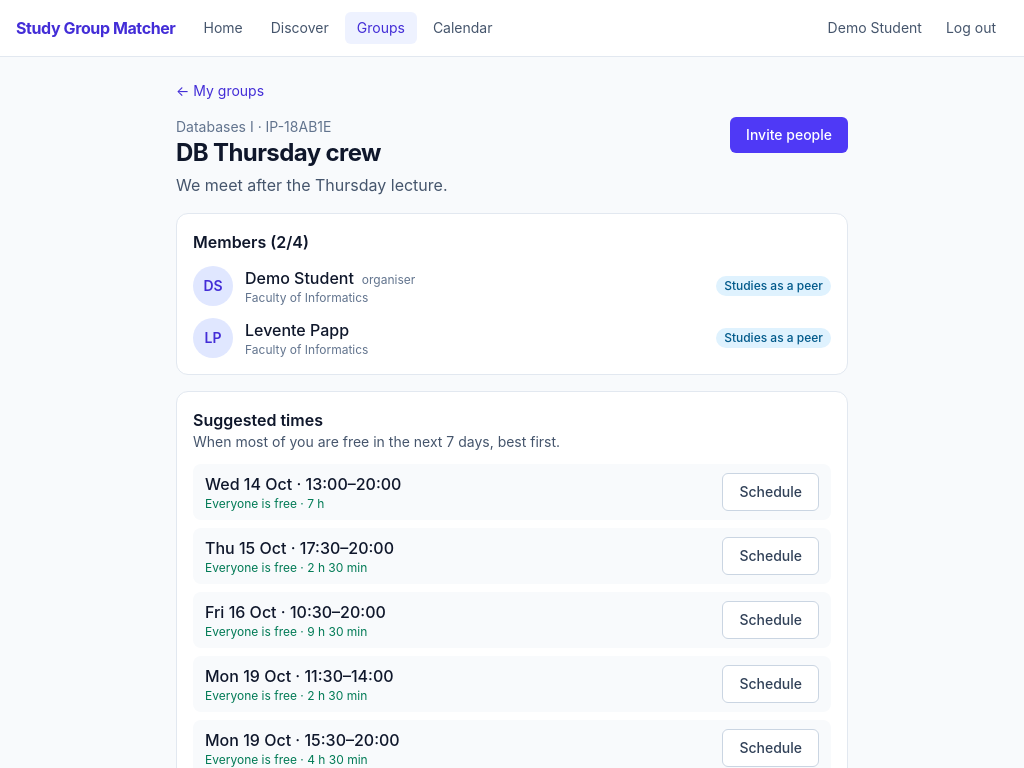
Test: Book a room while scheduling › can meet at a bookable place without booking
The image size is (1024, 768).
Click the button "Schedule " in the row of "Wed 14 Oct · 13:00–20:00".
click(771, 492)  # box x1=722 y1=473 x2=819 y2=511
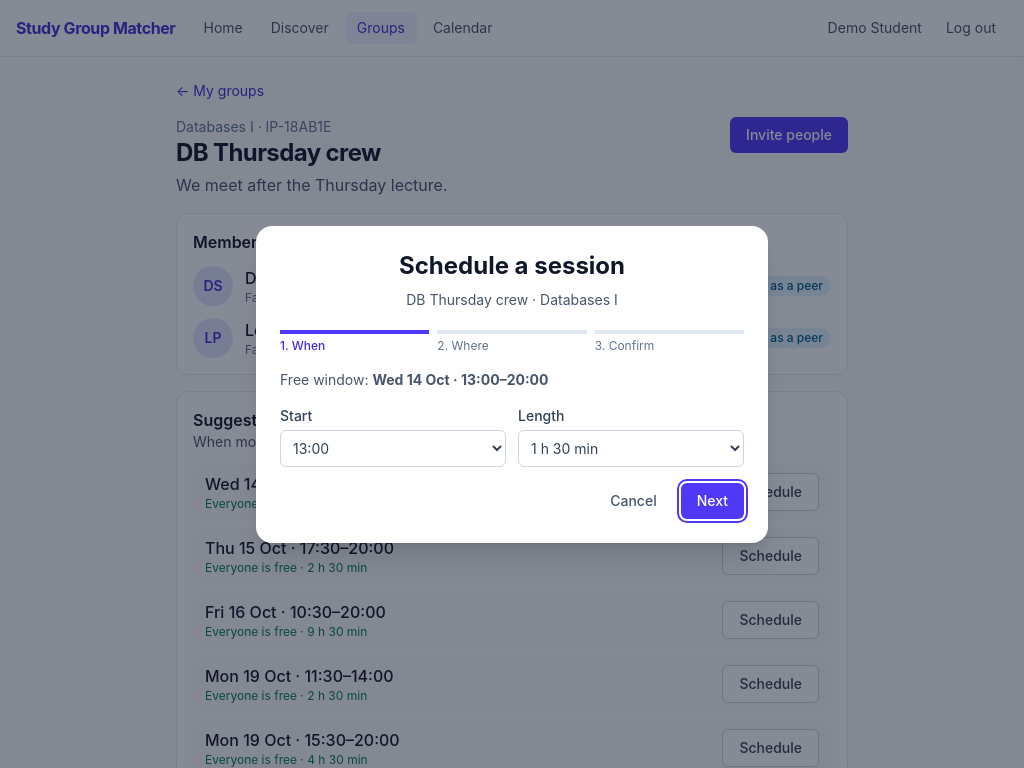
Click the button "Next".
click(712, 500)  # box x1=681 y1=482 x2=744 y2=518
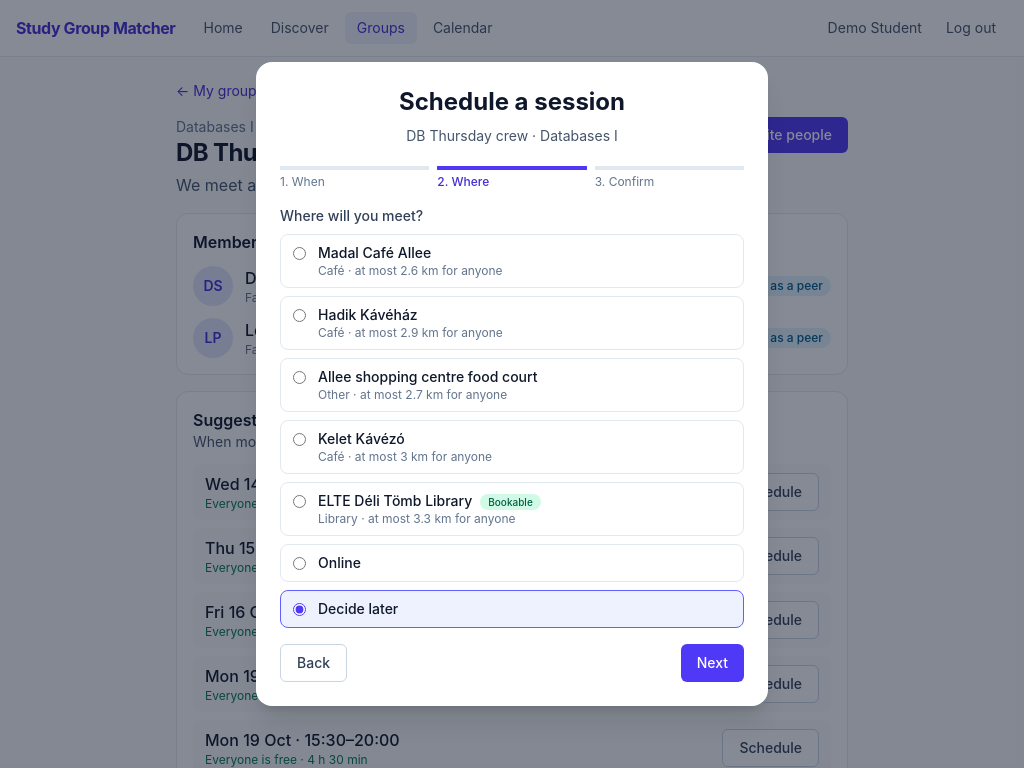
Click the 5th radio button.
click(300, 502)  # box x1=293 y1=495 x2=306 y2=508
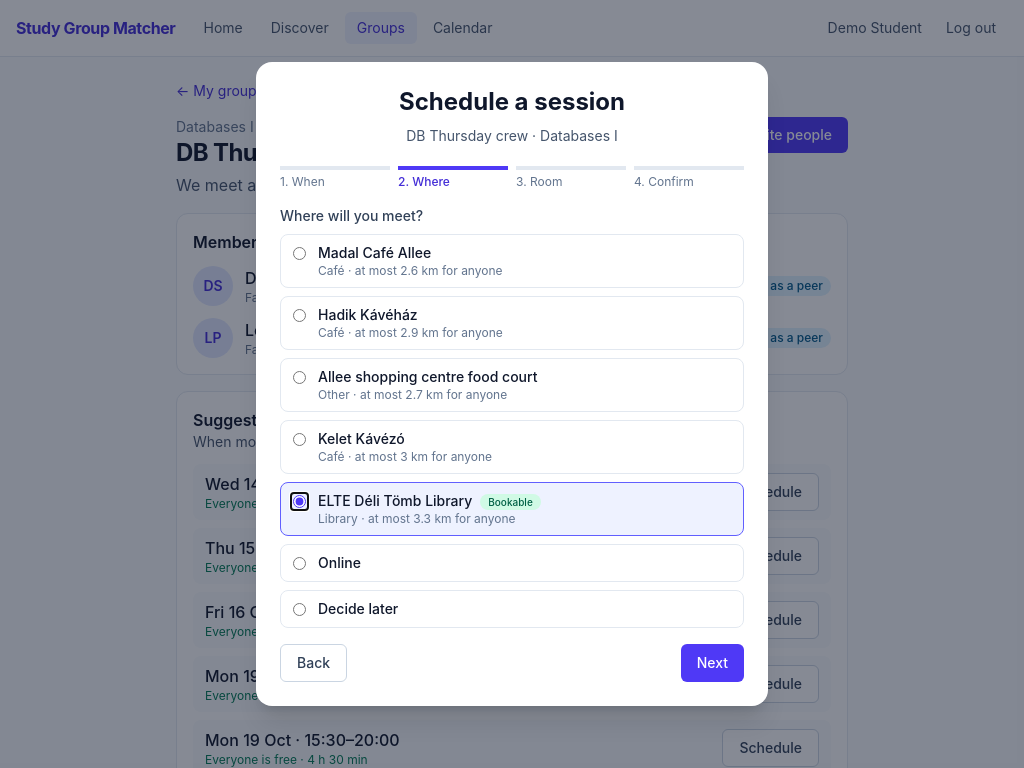
Click the button "Next".
click(712, 663)  # box x1=681 y1=644 x2=744 y2=682
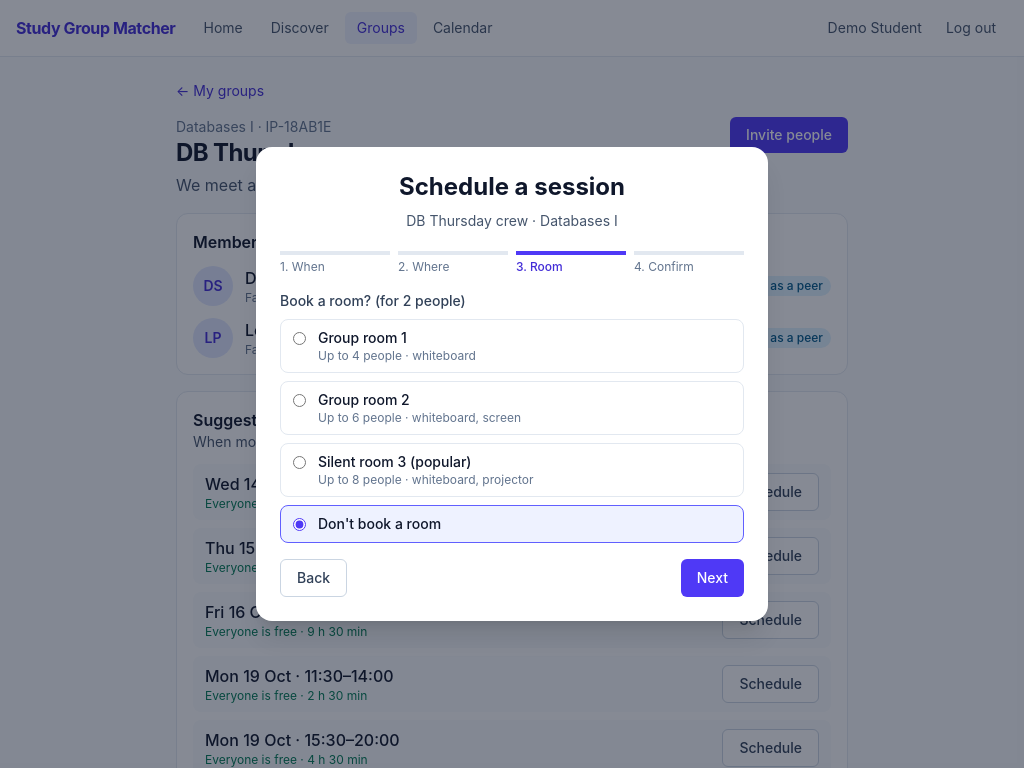
Click the button "Next".
click(712, 578)  # box x1=681 y1=559 x2=744 y2=597
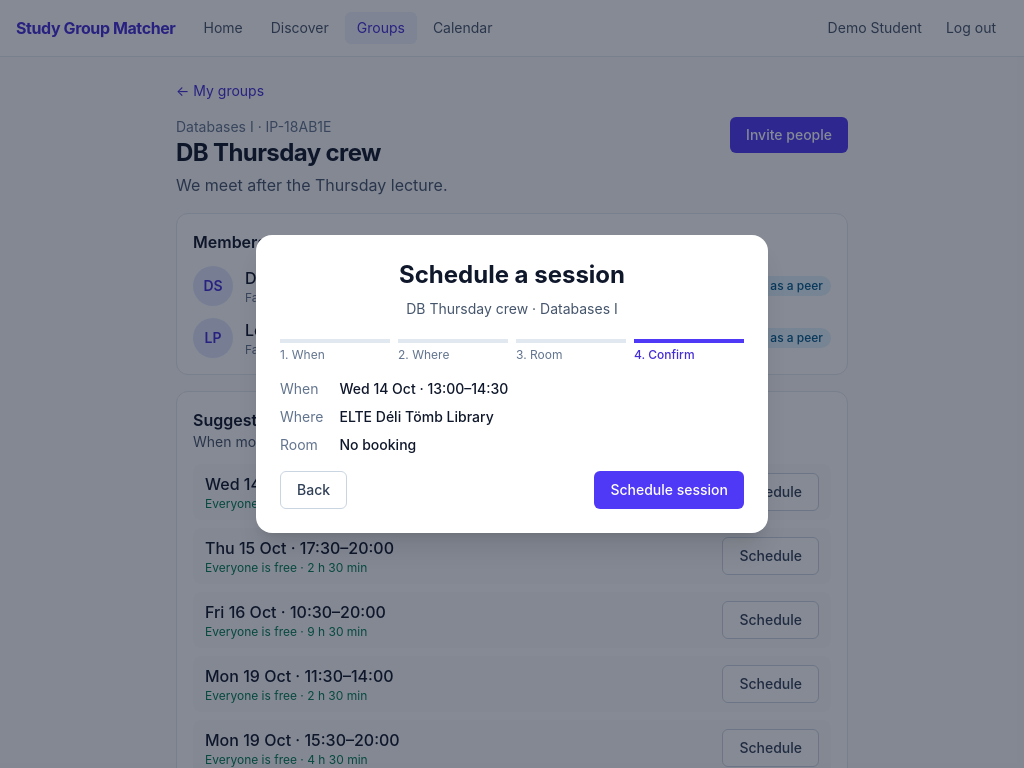
expect the text "No booking" is shown: met, box x1=339 y1=436 x2=416 y2=453
Click the button "Schedule session".
click(669, 490)  # box x1=594 y1=471 x2=744 y2=509
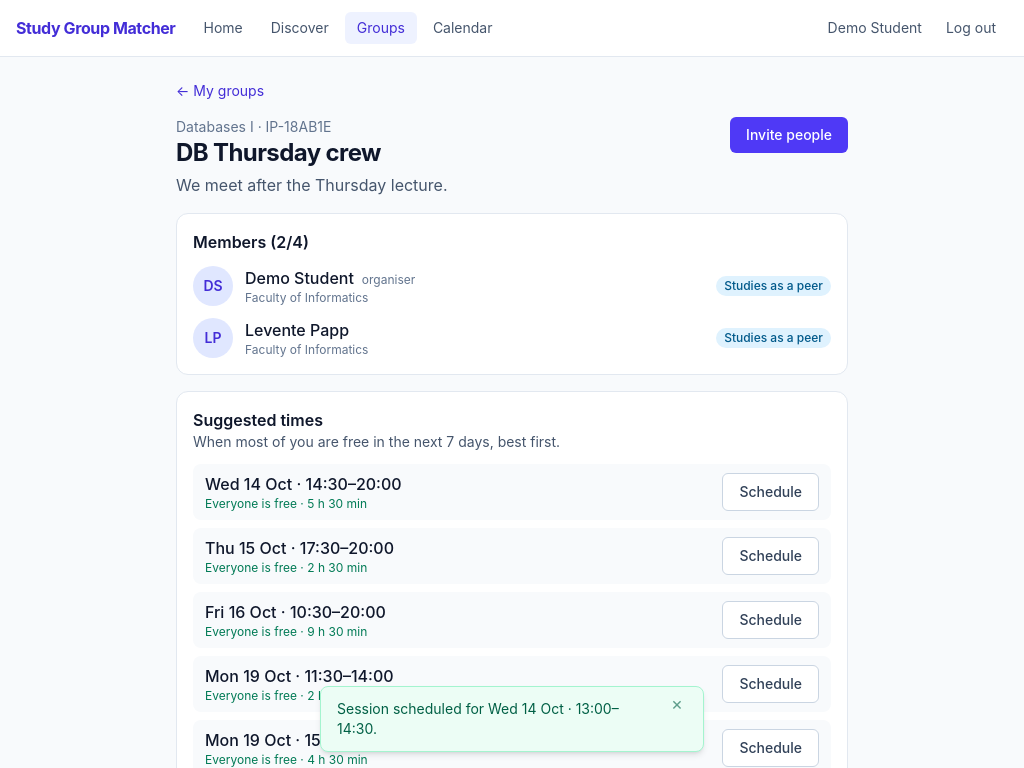
expect the text "Session scheduled for Wed 14 Oct · 13:00–14:30." is shown: met, box x1=337 y1=699 x2=655 y2=739
